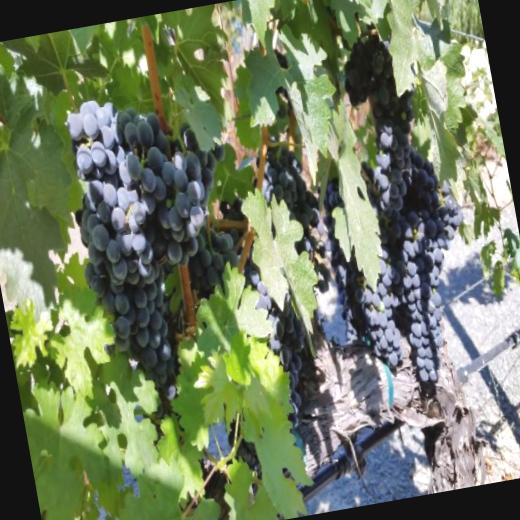Orange: (56, 78, 276, 422), (294, 20, 492, 397), (242, 256, 321, 430), (255, 140, 338, 301), (227, 418, 265, 482)
